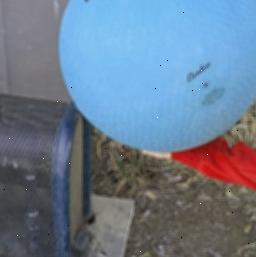algae: (59, 0, 256, 152)
